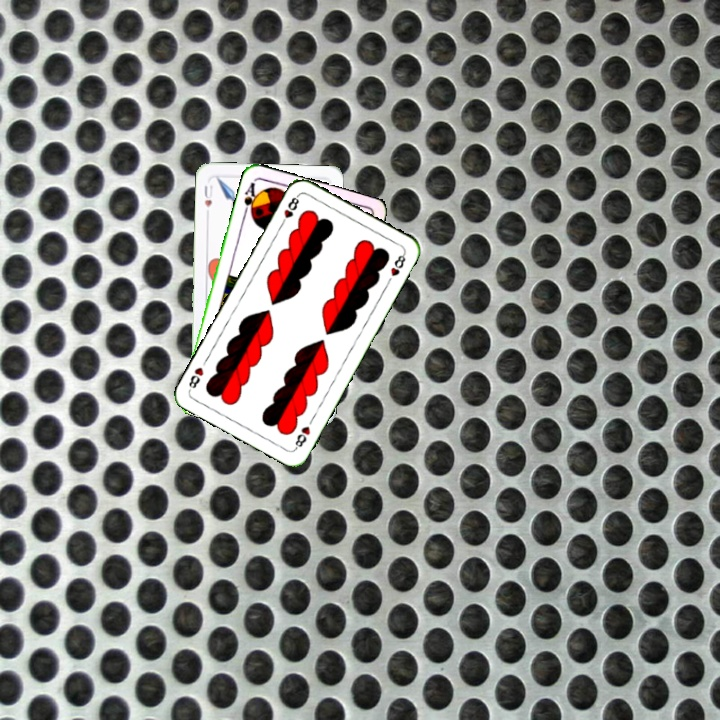H8: (277, 191, 302, 228), (291, 422, 313, 452)
HU: (200, 181, 215, 210)
SA: (240, 178, 261, 219)
